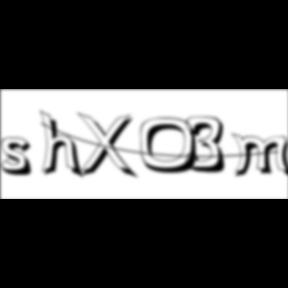3: (186, 116, 232, 176)
O: (140, 117, 204, 176)
X: (77, 112, 141, 182)
h: (40, 108, 88, 182)
s: (1, 137, 40, 179)
